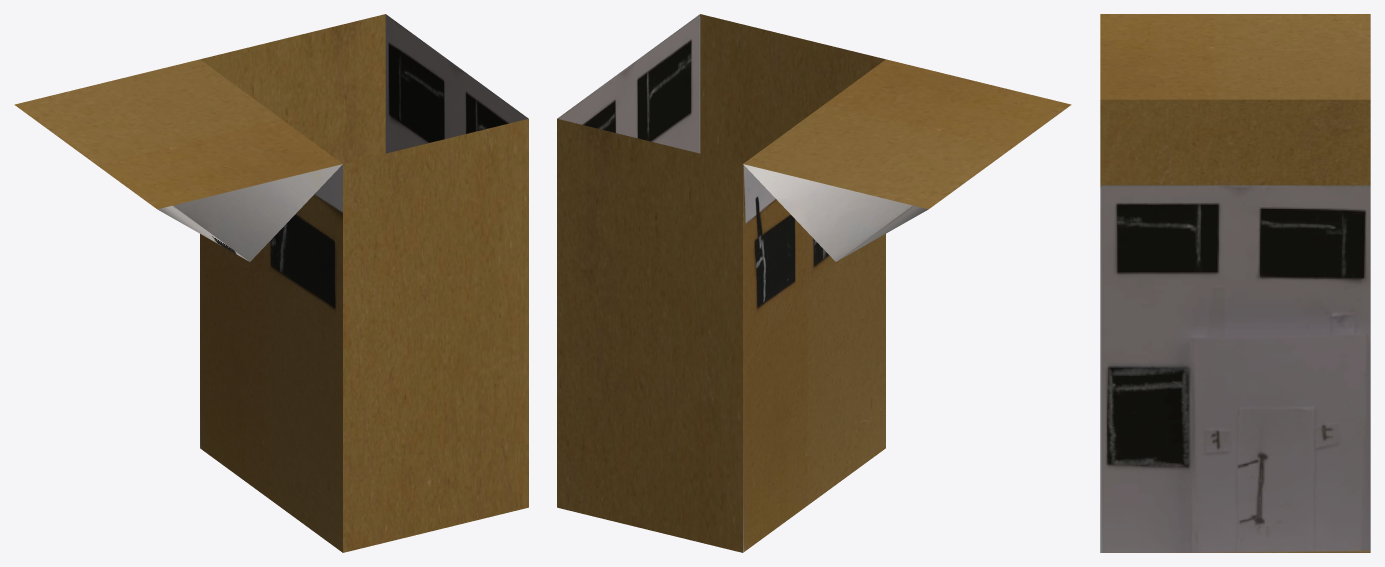
3 renders of one model, left to right at view 1: azimuth 30°, elevation 25°; view 2: azimuth 150°, elevation 25°; view 3: azimuth 270°, elevation 25°, orthographic. The views are drawn at different scales.
Parts seen in each view (by area): view 1: Cube, Cube.003, Cube.002; view 2: Cube, Cube.003, Cube.002; view 3: Cube, Cube.002, Cube.003.
Boxes of the visible parts, <box> form: Cube: <box>200,118,528,552</box>; Cube.003: <box>14,59,342,261</box>; Cube.002: <box>200,14,528,163</box>; Cube: <box>557,118,885,552</box>; Cube.003: <box>743,59,1071,261</box>; Cube.002: <box>557,14,885,163</box>; Cube: <box>1100,185,1370,552</box>; Cube.002: <box>1100,99,1370,185</box>; Cube.003: <box>1100,14,1370,99</box>.
Bounding box in the file's own units: 15 × 15 × 10.
Materials: 1 (1 with a texture image).
